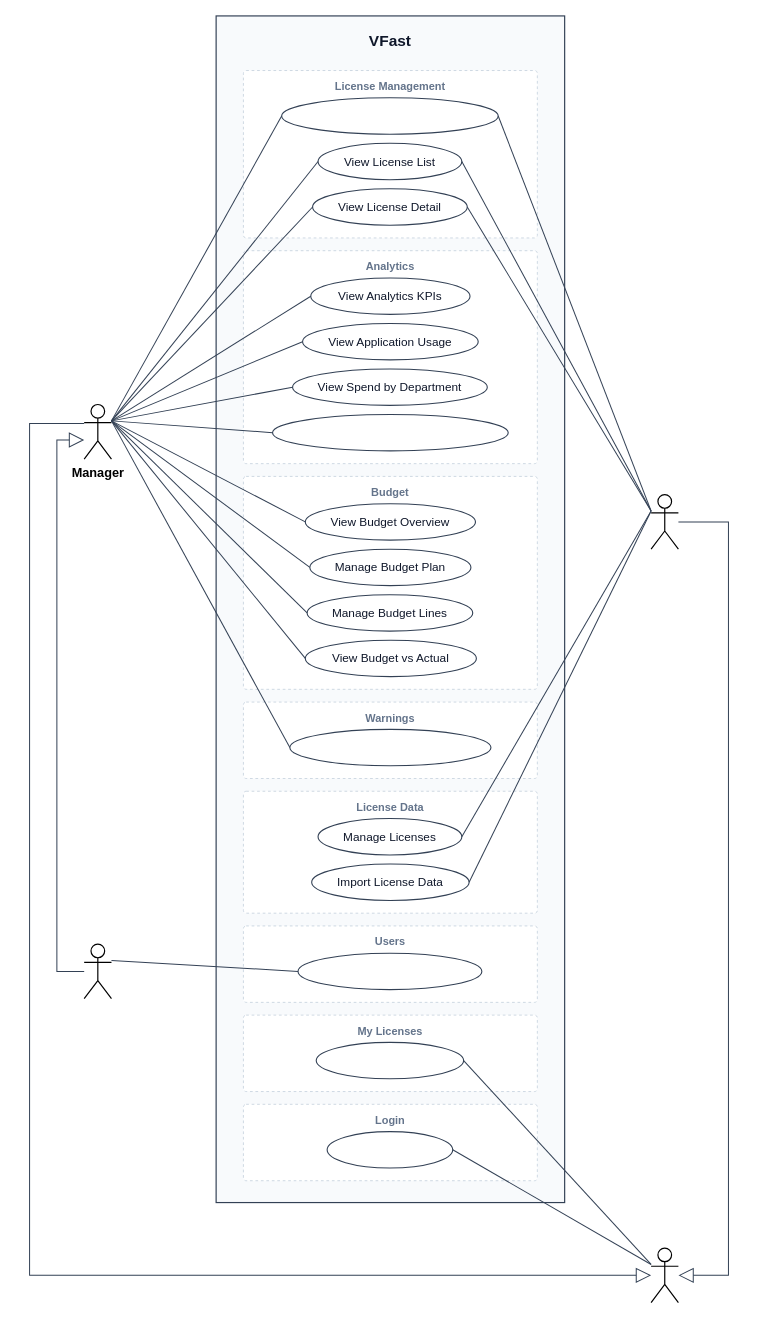
This 760x1340 diagram has some shape labels left out. Each missing label, with the centre of its shape:
"Admin" goes at point (97, 971).
"Employee" goes at point (664, 1275).
"Login / Logout" goes at point (389, 1149).
"Manage Users and Roles" goes at point (389, 971).
"Review Month-end Warnings" goes at point (390, 747).
"Staff" goes at point (664, 521).
"View License Overview Metrics" goes at point (389, 115).
"View My Licenses" goes at point (389, 1060).
"View Subscription Usage by Month" goes at point (390, 432).
